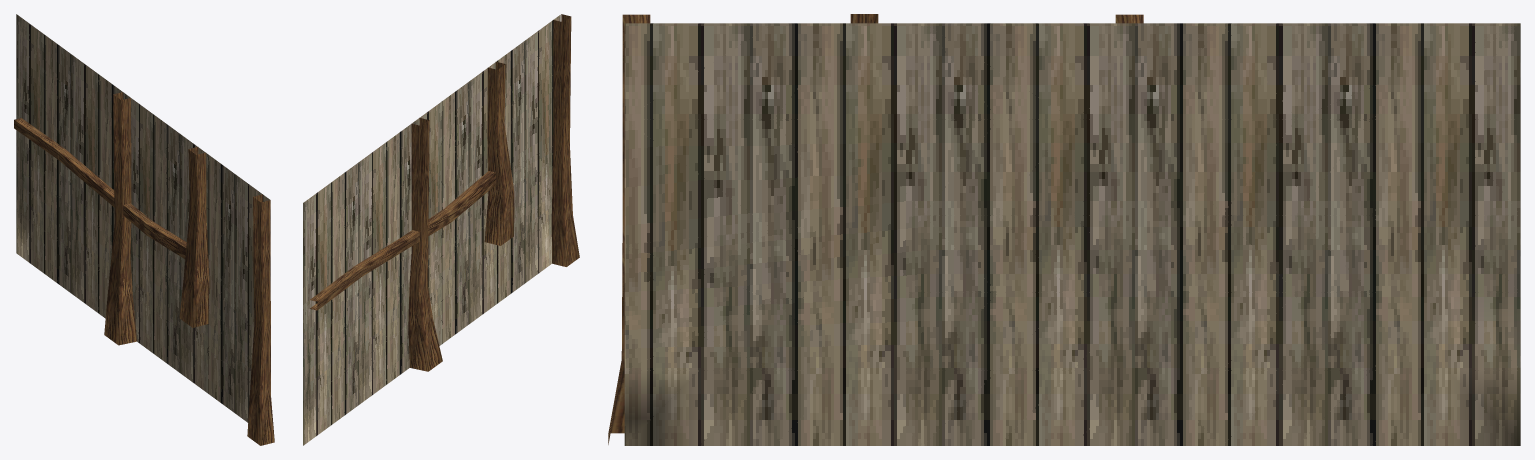
File: LAKETOWN_PUB_PS_PUB_SIDEWALL8373__GX.fbx
3 views of the same model, side by side, from view 1: azimuth 30°, elevation 25°; view 2: azimuth 150°, elevation 25°; view 3: azimuth 270°, elevation 25° (orthographic). The views are drawn at different scales.
Visible parts, largest first — view 1: LAKETOWN_PUB_PS_PUB_SIDEWALL8373__GX; view 2: LAKETOWN_PUB_PS_PUB_SIDEWALL8373__GX; view 3: LAKETOWN_PUB_PS_PUB_SIDEWALL8373__GX.
Part boxes in pixels (left/top/right/bottom): LAKETOWN_PUB_PS_PUB_SIDEWALL8373__GX: left=14, top=14, right=274, bottom=445; LAKETOWN_PUB_PS_PUB_SIDEWALL8373__GX: left=303, top=14, right=579, bottom=445; LAKETOWN_PUB_PS_PUB_SIDEWALL8373__GX: left=608, top=14, right=1520, bottom=445.
Bounding box in the file's own units: 3492 × 44780 × 87447.
2 materials, 2 textured.
